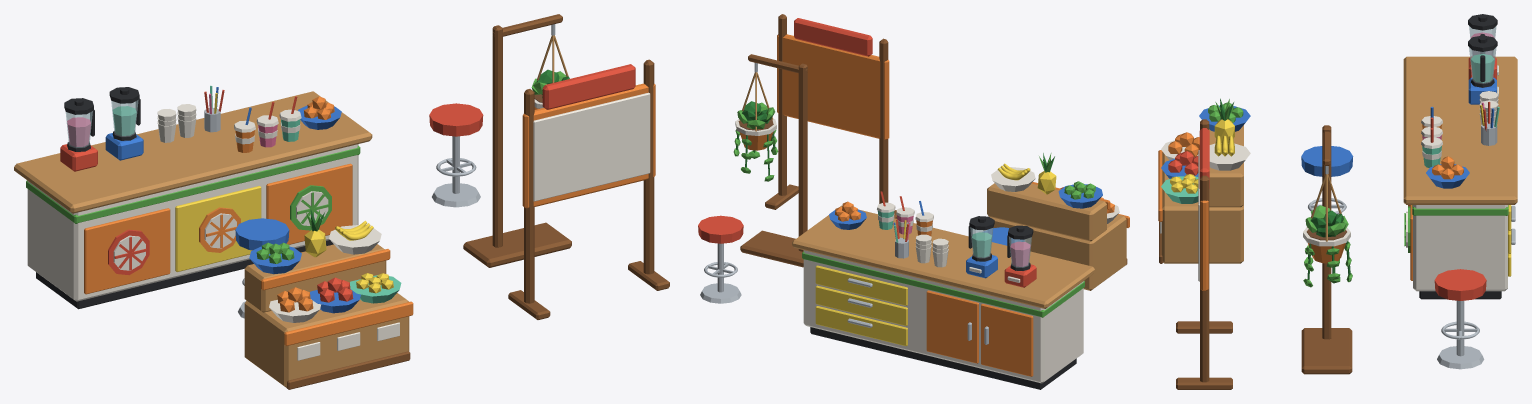
The model's file is juice-bar-set.glb.
3 views of the same model, side by side, from view 1: azimuth 30°, elevation 25°; view 2: azimuth 150°, elevation 25°; view 3: azimuth 270°, elevation 25° (orthographic). The views are drawn at different scales.
Visible parts, largest first — view 1: Counter_Top, Counter_Body, Menu_Face, Display_Base, Counter_FrontPanel, Counter_FrontPanel_2, Counter_FrontPanel_3, Display_Upper, Menu_Frame, Counter_Stripe, Menu_Header, Plant_StandPole (+30 smaller); view 2: Counter_Top, Counter_Body, Menu_Frame, Display_Upper, Display_Base, Counter_Door_L, Counter_Door_R, Counter_Plinth, Counter_Stripe, Menu_Header, Counter_Drawer_3, Counter_Drawer_1 (+18 smaller); view 3: Counter_Top, Counter_Body, Display_Base, Plant_StandBase, Display_Upper, Menu_Post_2, Stool_Seat, Plant_StandPole, Stool_Seat_2, Stool_Base, Menu_Frame, Counter_Stripe (+19 smaller).
Boxes of the visible parts, x1,y1,x2,y2 form: Counter_Top: (14, 91, 372, 213); Counter_Body: (27, 144, 358, 301); Menu_Face: (533, 92, 650, 201); Display_Base: (244, 293, 409, 387); Counter_FrontPanel: (84, 208, 170, 294); Counter_FrontPanel_2: (175, 186, 261, 271); Counter_FrontPanel_3: (266, 163, 352, 244); Display_Upper: (244, 244, 386, 312); Menu_Frame: (522, 83, 655, 208); Counter_Stripe: (26, 145, 360, 223); Menu_Header: (542, 64, 635, 109); Plant_StandPole: (492, 25, 502, 247); Counter_Top: (792, 205, 1094, 308); Counter_Body: (803, 250, 1083, 383); Menu_Frame: (777, 34, 889, 139); Display_Upper: (987, 183, 1106, 241); Display_Base: (989, 214, 1126, 290); Counter_Door_L: (981, 304, 1033, 376); Counter_Door_R: (926, 290, 978, 363); Counter_Plinth: (810, 327, 1076, 389); Counter_Stripe: (802, 251, 1084, 317); Menu_Header: (794, 18, 872, 56); Counter_Drawer_3: (815, 265, 907, 305); Counter_Drawer_1: (815, 306, 907, 346); Counter_Top: (1403, 56, 1517, 204); Counter_Body: (1413, 205, 1507, 291); Display_Base: (1161, 152, 1243, 263); Plant_StandBase: (1301, 328, 1352, 374); Display_Upper: (1209, 125, 1243, 207); Menu_Post_2: (1200, 175, 1209, 382); Stool_Seat: (1434, 269, 1486, 300); Plant_StandPole: (1322, 125, 1331, 339); Stool_Seat_2: (1301, 146, 1353, 176); Stool_Base: (1437, 346, 1484, 369); Menu_Frame: (1200, 200, 1208, 290); Counter_Stripe: (1412, 205, 1508, 215).
Size of the model in its own units: 16.89 by 7.65 by 11.34.
